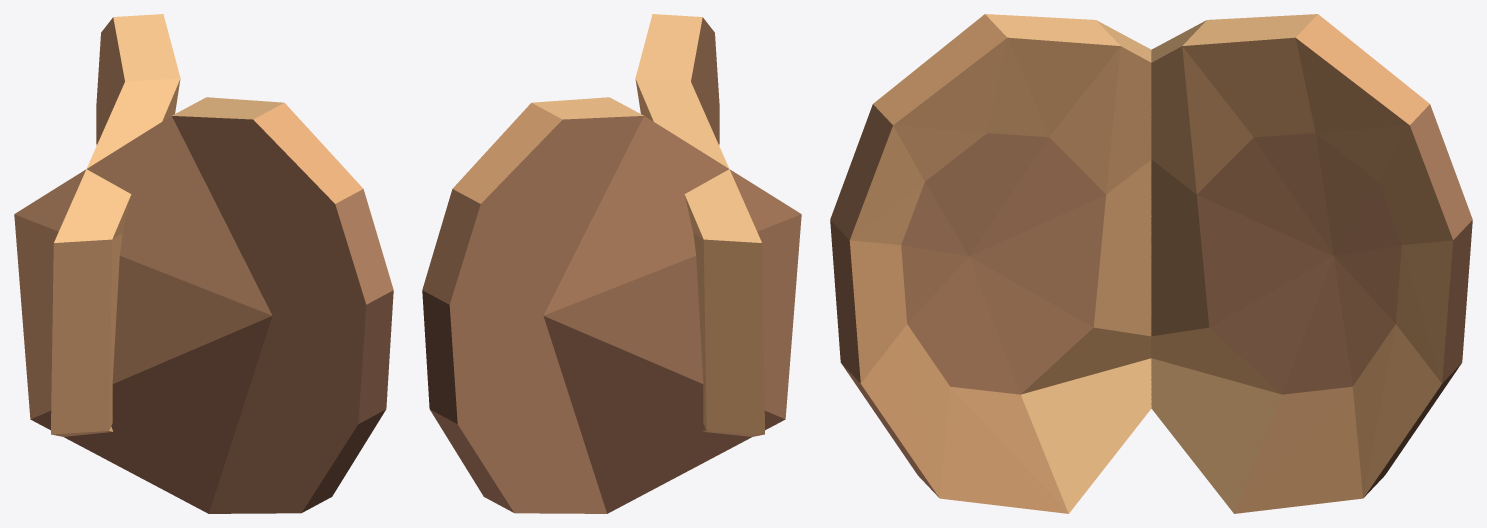
The model's file is hf_round.glb.
3 views of the same model, side by side, from view 1: azimuth 30°, elevation 25°; view 2: azimuth 150°, elevation 25°; view 3: azimuth 270°, elevation 25° (orthographic). The views are drawn at different scales.
Parts seen in each view (by area): view 1: Ear_R, Ear_L; view 2: Ear_L, Ear_R; view 3: Ear_L, Ear_R.
Part boxes in pixels (x1,y1,x2,y2): Ear_R: (14, 97, 393, 513); Ear_L: (51, 14, 180, 436); Ear_L: (422, 97, 801, 513); Ear_R: (635, 14, 764, 436); Ear_L: (1151, 14, 1472, 513); Ear_R: (830, 14, 1151, 513).
Bounding box in the file's own units: 0.0364 × 0.0609 × 0.0731.
1 material, 1 textured.
